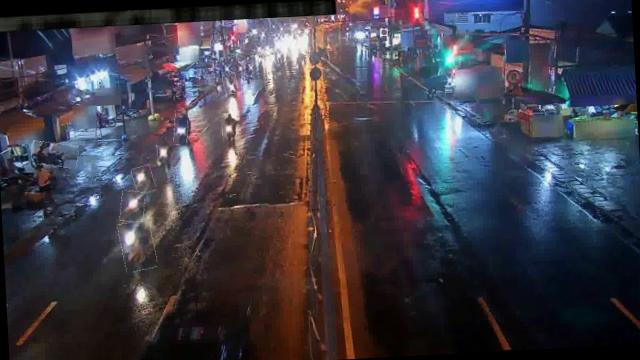Bike: (118, 219, 156, 272), (30, 140, 79, 168), (118, 190, 146, 222), (132, 164, 155, 194), (172, 110, 190, 144), (222, 113, 240, 142), (223, 73, 239, 94), (156, 140, 169, 162)
